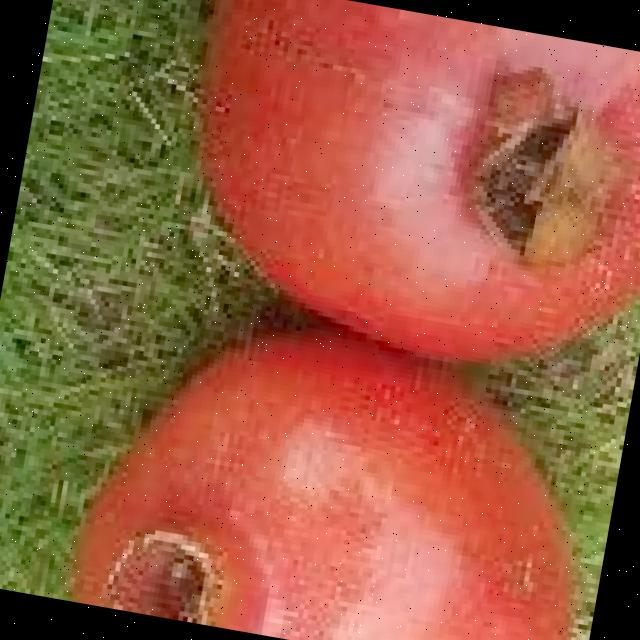Good_Lime-10-21 days: (55, 0, 640, 640)
